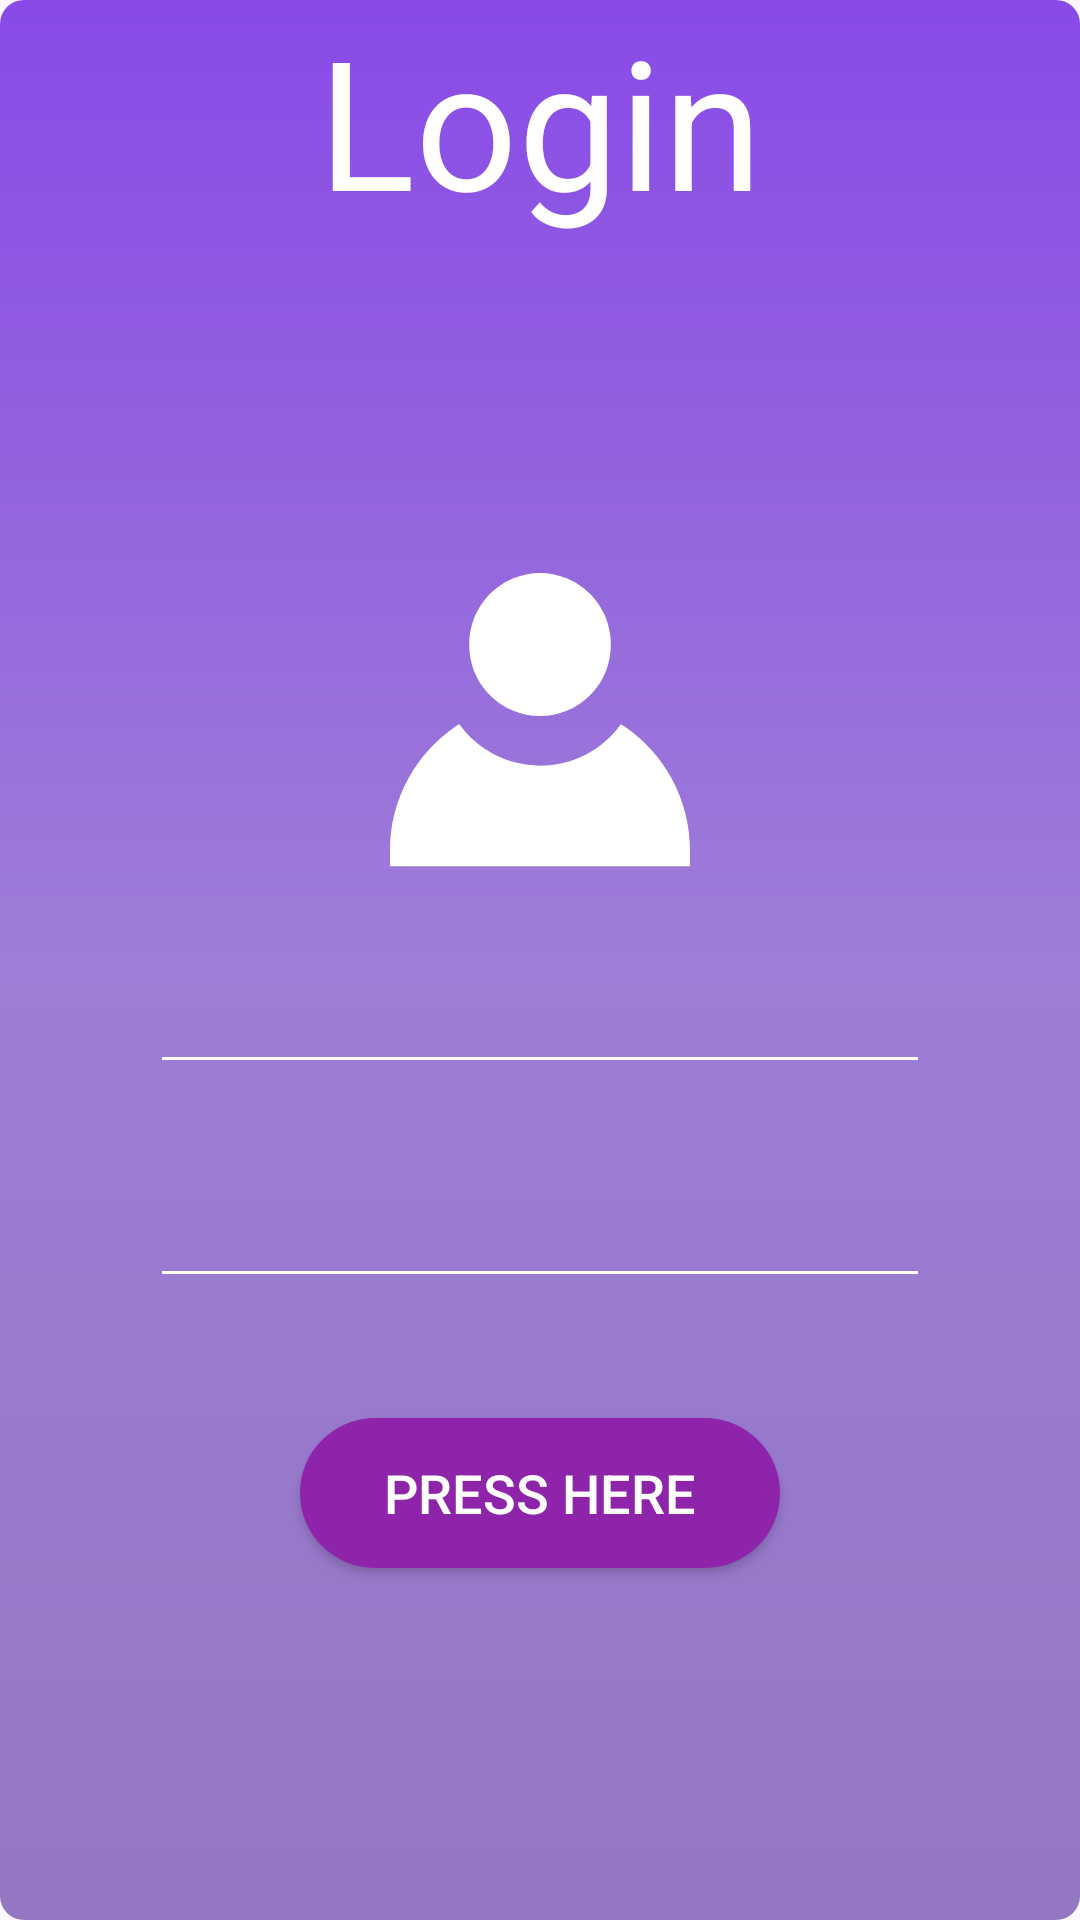

Named icons in this screenshot (1080 x 1920) and their centers, [x,y]:
user: [540,720]
